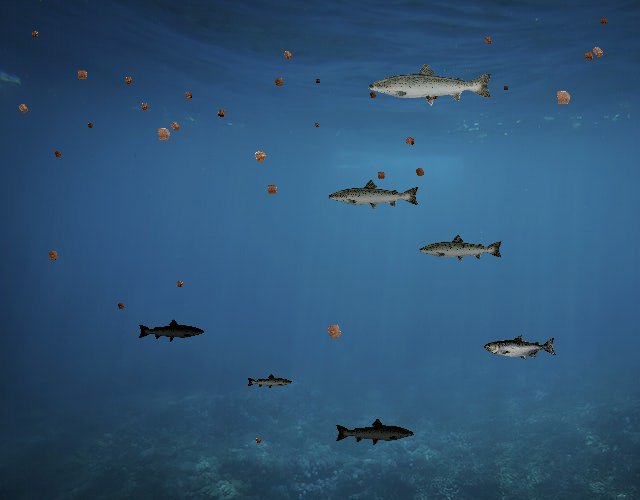Fish: (366, 61, 495, 107), (328, 179, 422, 212), (418, 233, 504, 264), (334, 417, 415, 446), (484, 334, 557, 360), (138, 319, 206, 343), (246, 373, 293, 390)
Pellet: (248, 144, 273, 169), (172, 277, 187, 292), (114, 299, 128, 313), (28, 27, 42, 41), (252, 435, 264, 447)
